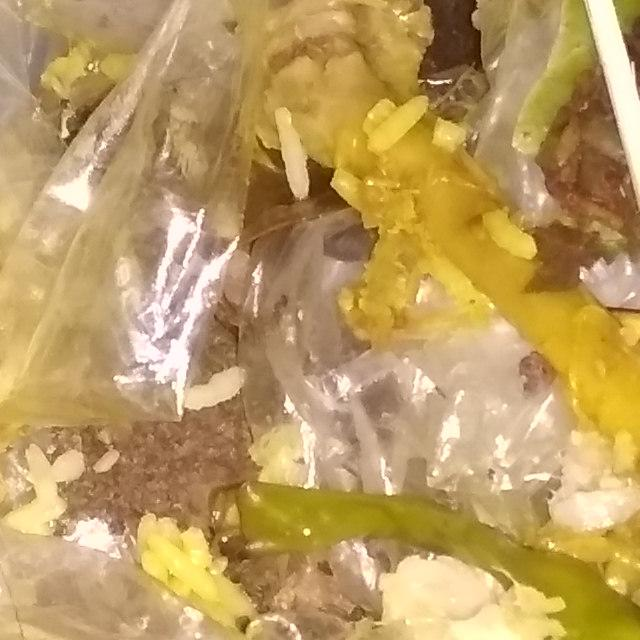food_waste: (168, 392, 640, 640)
plastic: (0, 492, 568, 640)
